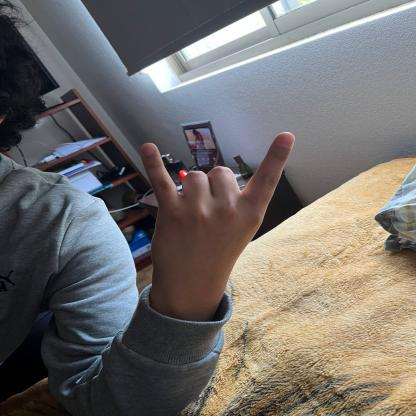U: (134, 124, 298, 274)
